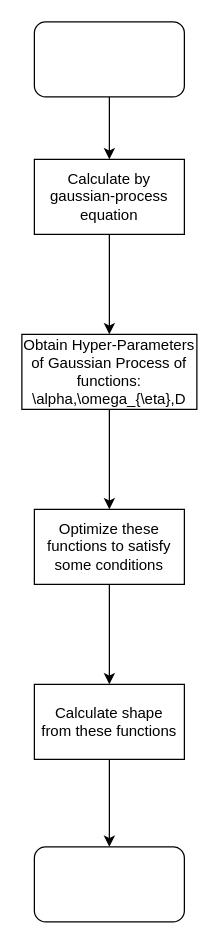
The diagram is 219 pixels wide and 944 high, and some of its shapes have lost their labels. The shapes that lost their labels are listed below. From the top down, each one's centre as x and y in pixels, then its label:
(x=108, y=59): Input function evaluation
(x=108, y=884): Obtain 3D developable surface and 2D developed shape
